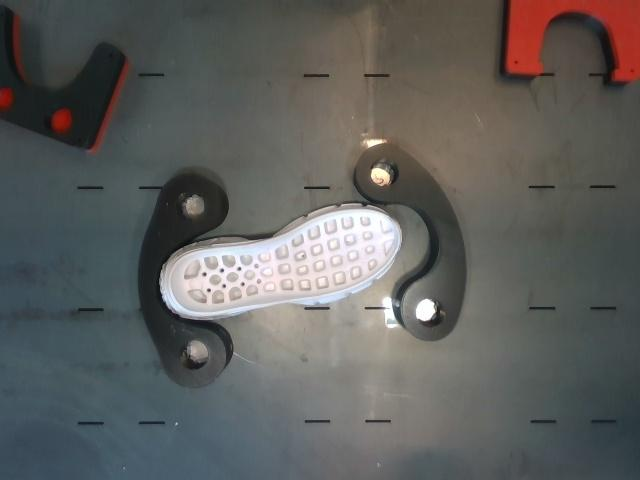shoes: (171, 210, 399, 312)
